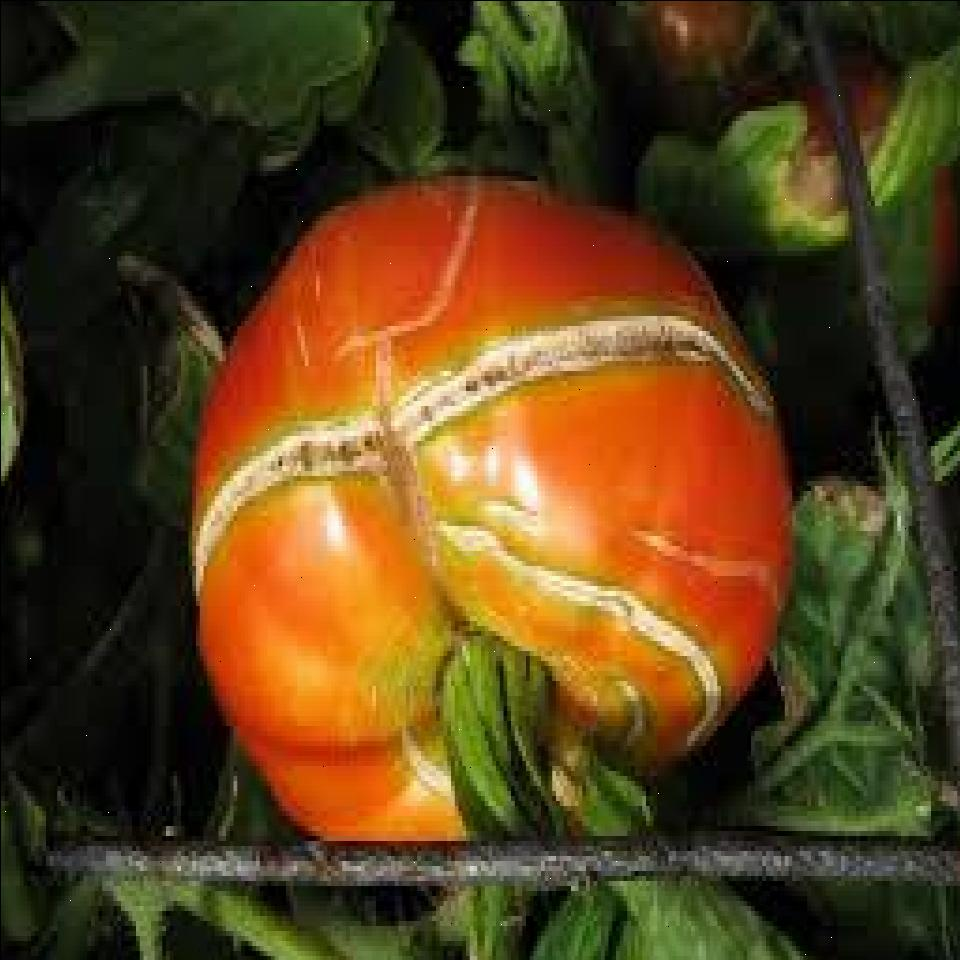Cracking: (172, 301, 780, 640), (423, 486, 742, 767), (352, 624, 652, 838)
